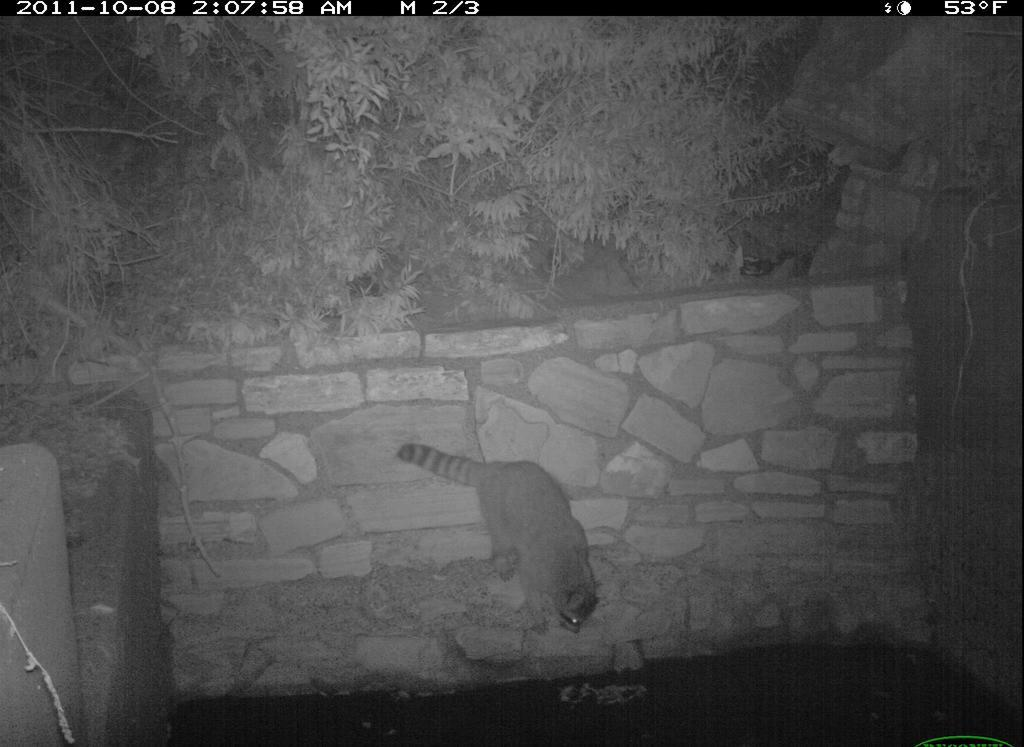raccoon: (395, 433, 621, 646)
